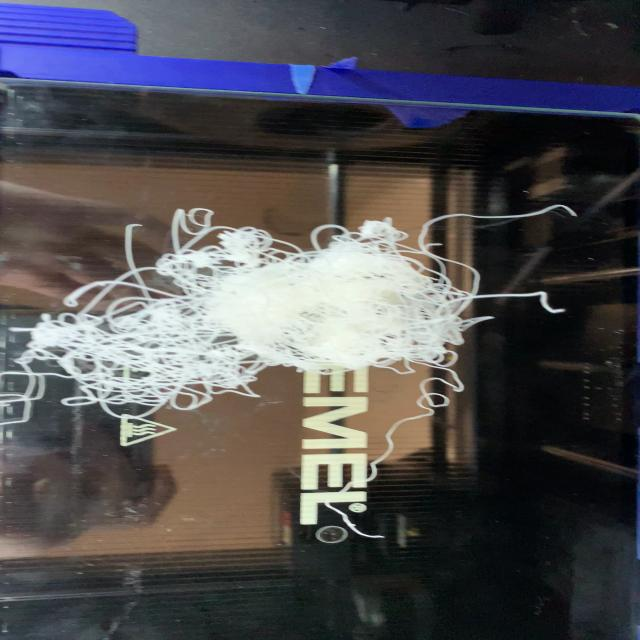spaghetti: (7, 202, 573, 438)
